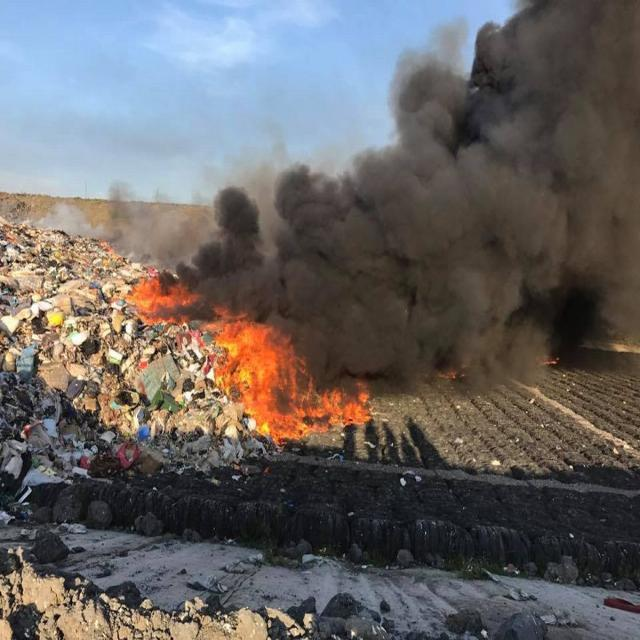Fire: (208, 315, 354, 431), (113, 272, 196, 327)
Smoke: (178, 2, 638, 412)
